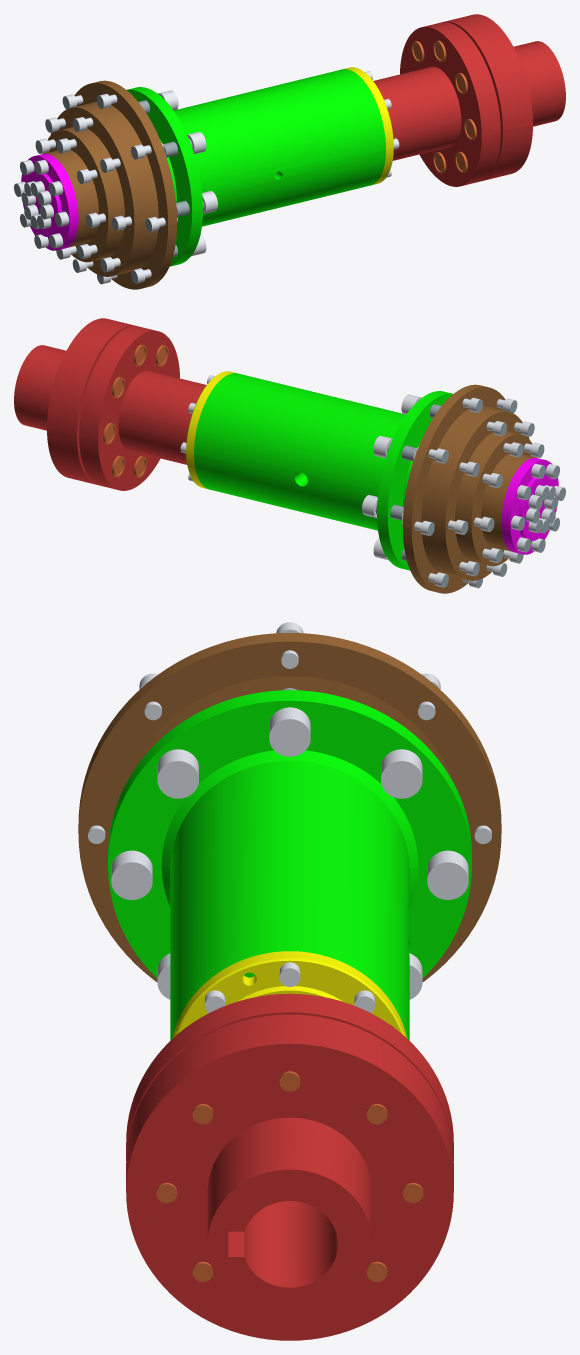
3 renders of one model, top to bottom at view 1: azimuth 30°, elevation 25°; view 2: azimuth 150°, elevation 25°; view 3: azimuth 270°, elevation 25°, orthographic. The views are drawn at different scales.
Parts seen in each view (by area): view 1: _主轴-1; view 2: _主轴-1; view 3: _主轴-1.
Part boxes in pixels (box(x1,y1,x2,y2)): _主轴-1: box(14, 14, 565, 289); _主轴-1: box(14, 318, 565, 593); _主轴-1: box(78, 622, 501, 1340).
Bounding box in the file's own units: 681 × 244 × 244.
